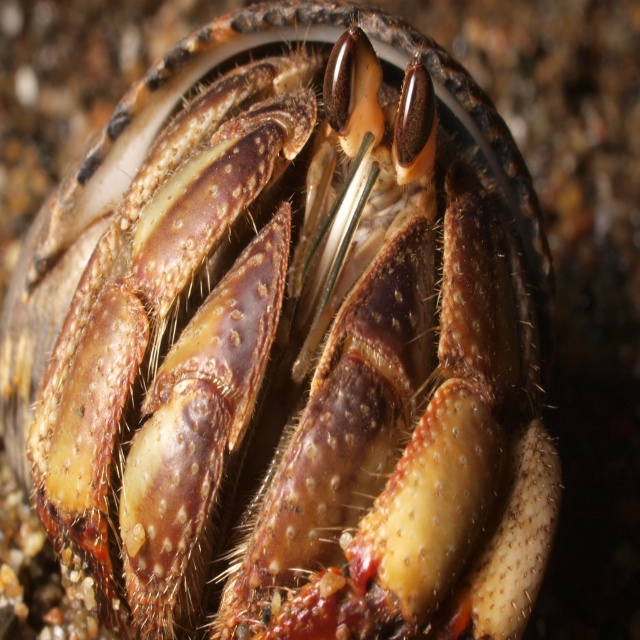Crab: (0, 0, 566, 639)
